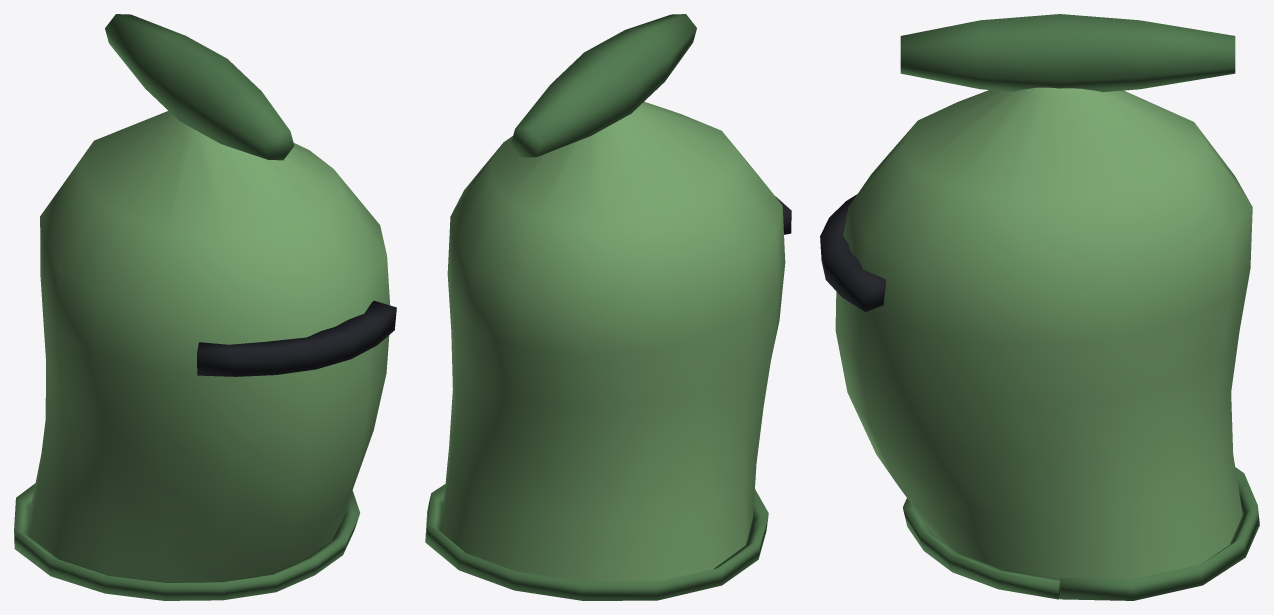
File: tungsten_armor_head.glb
The picture shows the model from 3 angles, left to right: view 1: azimuth 30°, elevation 25°; view 2: azimuth 150°, elevation 25°; view 3: azimuth 270°, elevation 25°; orthographic projection. The views are drawn at different scales.
Visible parts, largest first — view 1: tungsten_armor_head; view 2: tungsten_armor_head; view 3: tungsten_armor_head.
Boxes of the visible parts, x1,y1,x2,y2 form: tungsten_armor_head: [14, 14, 396, 600]; tungsten_armor_head: [425, 14, 791, 600]; tungsten_armor_head: [820, 14, 1259, 600].
Size of the model in its own units: 0.2317 by 0.3521 by 0.276.
